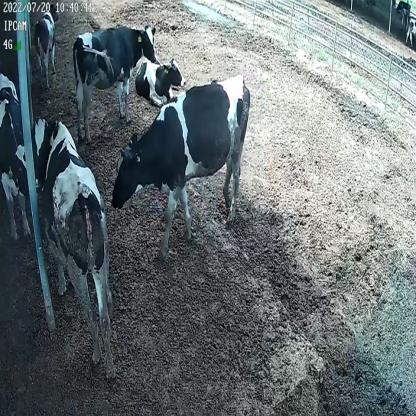cow: (112, 73, 252, 257), (26, 112, 115, 372), (71, 22, 157, 138), (0, 72, 32, 238), (137, 48, 186, 107), (32, 3, 61, 84)
